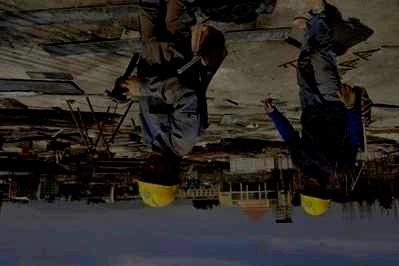helmet: (134, 153, 180, 208), (299, 178, 331, 217)
